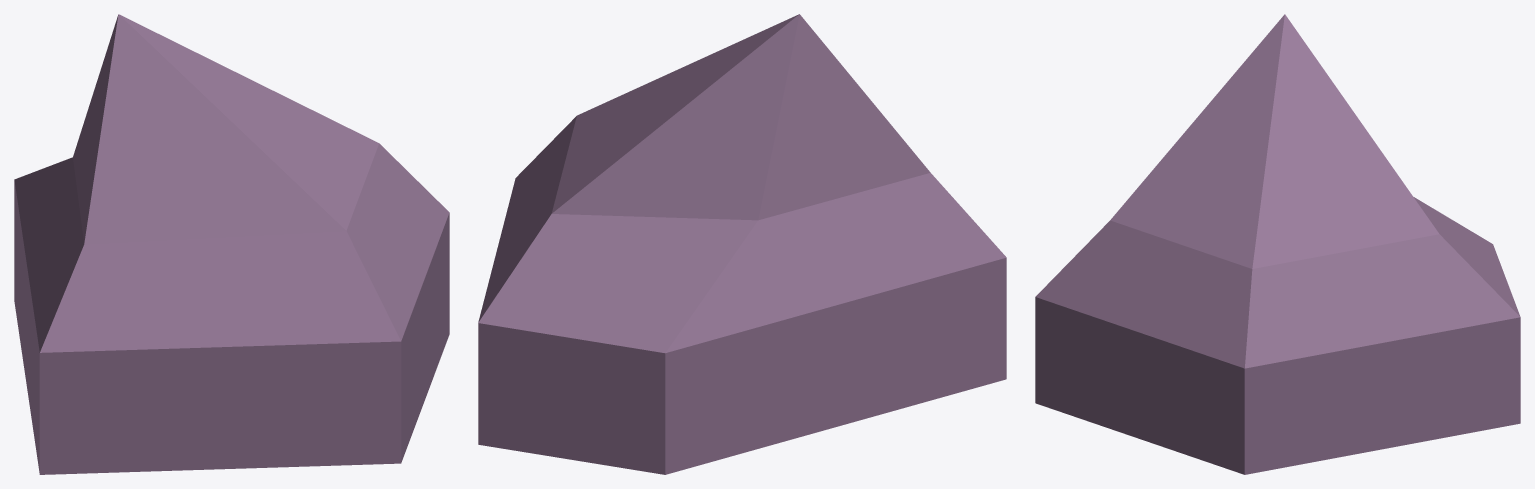
The model's file is rock_5_v1.fbx.
The picture shows the model from 3 angles, left to right: view 1: azimuth 30°, elevation 25°; view 2: azimuth 150°, elevation 25°; view 3: azimuth 270°, elevation 25°; orthographic projection. The views are drawn at different scales.
Visible parts, largest first — view 1: rock_5; view 2: rock_5; view 3: rock_5.
Boxes of the visible parts, x1=… form: rock_5: x1=14, y1=14, x2=449, y2=474; rock_5: x1=478, y1=14, x2=1006, y2=474; rock_5: x1=1035, y1=14, x2=1520, y2=474.
Size of the model in its own units: 0.3148 by 0.2525 by 0.3365.
